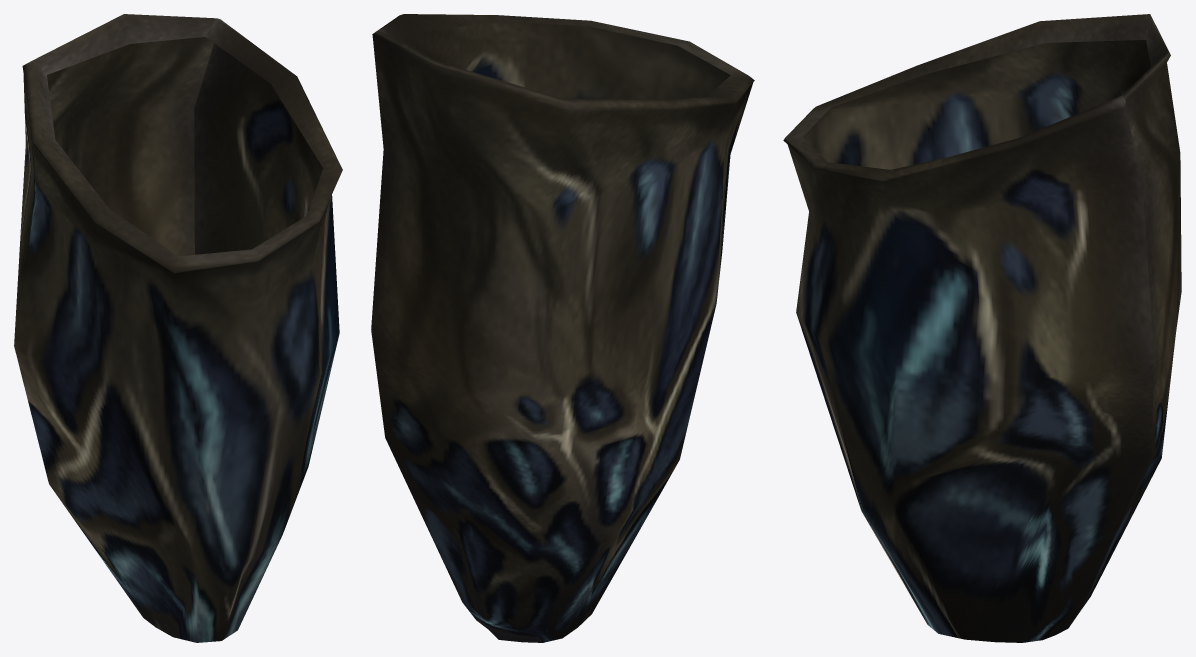
The model's file is legArmorCiladeaLFT.fbx.
The picture shows the model from 3 angles, left to right: view 1: azimuth 30°, elevation 25°; view 2: azimuth 150°, elevation 25°; view 3: azimuth 270°, elevation 25°; orthographic projection. The views are drawn at different scales.
Visible parts, largest first — view 1: legArmorCiladeaLFT; view 2: legArmorCiladeaLFT; view 3: legArmorCiladeaLFT.
Boxes of the visible parts, x1,y1,x2,y2 form: legArmorCiladeaLFT: [14, 14, 342, 642]; legArmorCiladeaLFT: [371, 14, 754, 642]; legArmorCiladeaLFT: [783, 14, 1181, 642].
Bounding box in the file's own units: 0.9431 × 1.9 × 1.17.
